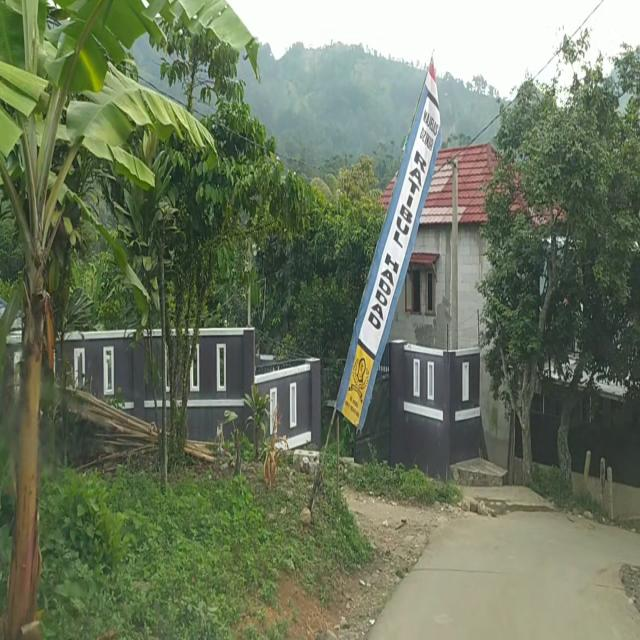Sewer Cover: (413, 559, 621, 592)
